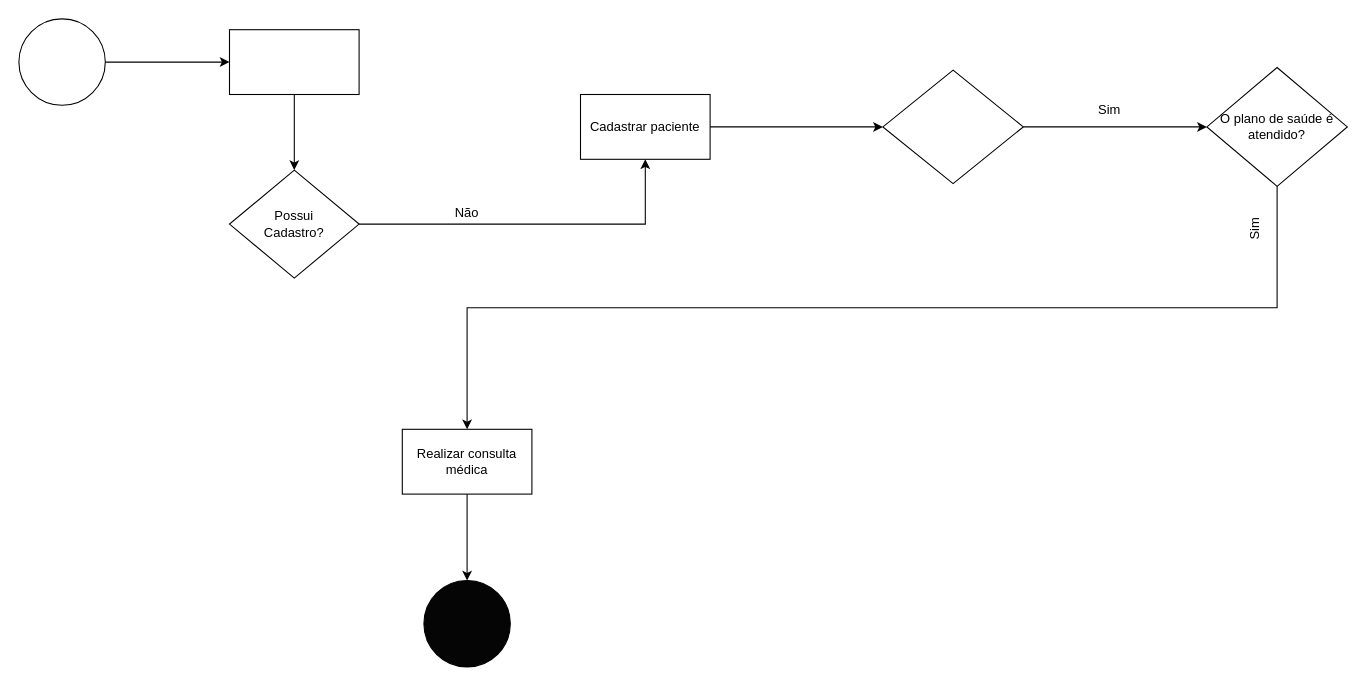
Image size: 1366x686. Some labels were removed from this diagram. Here are the shapes that lost their labels. From the top down, the centre of each, then its label:
At [293,61]: "Verificar agendamento".
At [952,126]: "Possui plano de saúde?".
